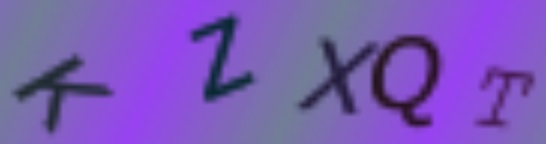K: (10, 50, 119, 136)
Q: (372, 34, 446, 129)
T: (471, 64, 538, 131)
X: (296, 37, 377, 118)
Z: (193, 8, 258, 107)
